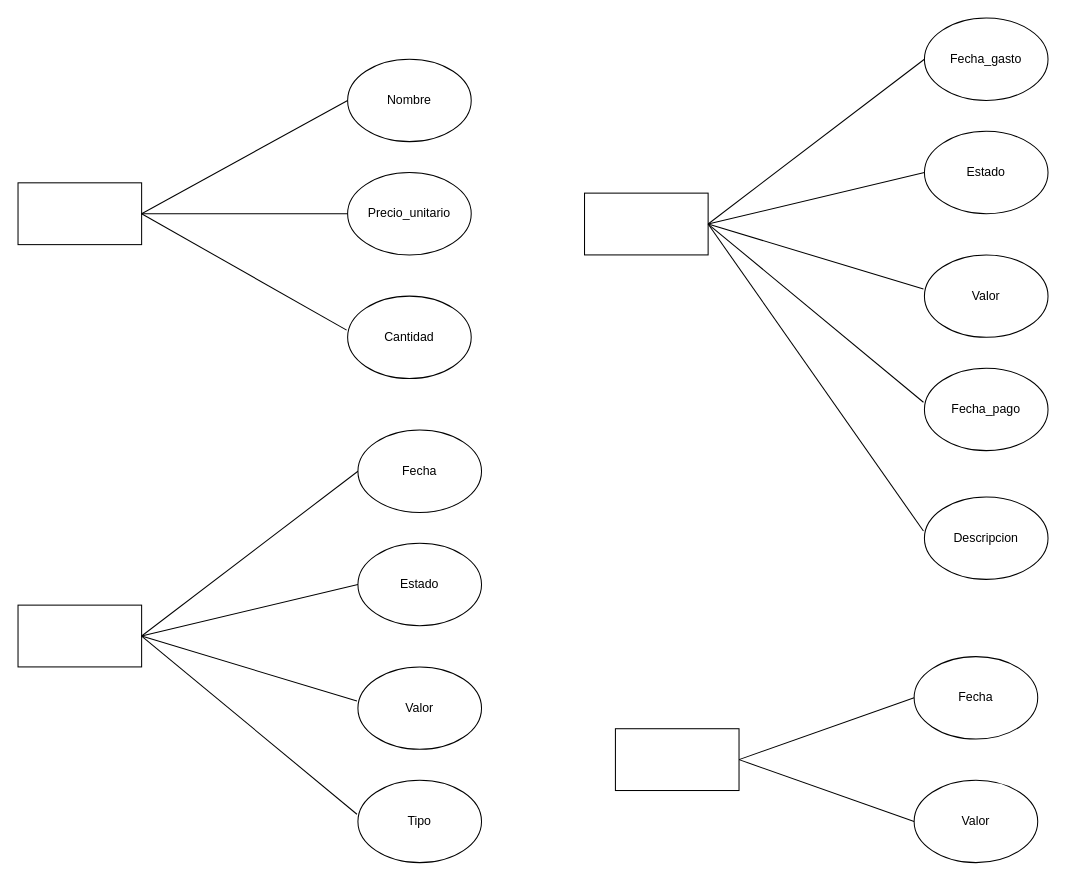
Image size: 1066x881. Some labels were removed from this diagram. The box of each missing label's shape, as (x1, y1, x2, y2) in pixels:
GASTO: (583, 192, 708, 255)
PRESUPUESTO: (614, 728, 739, 791)
PRODUCTO: (17, 182, 142, 245)
VENTA: (17, 604, 142, 667)
